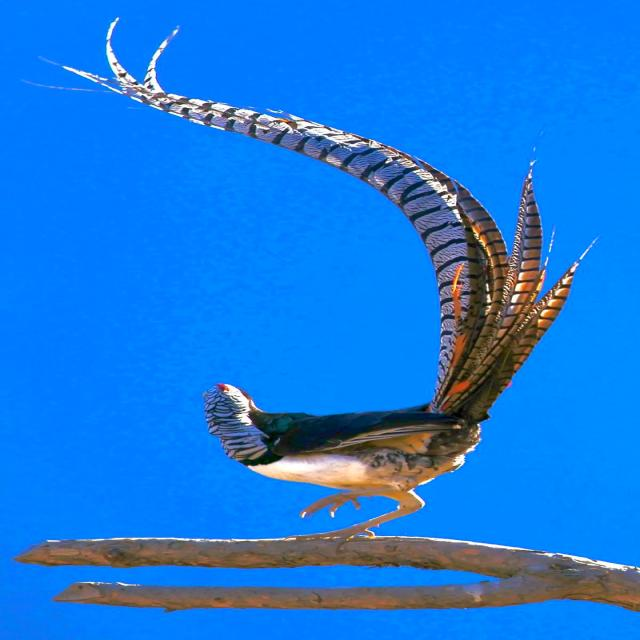Chrysolophus amherstiae: (72, 32, 583, 421)
